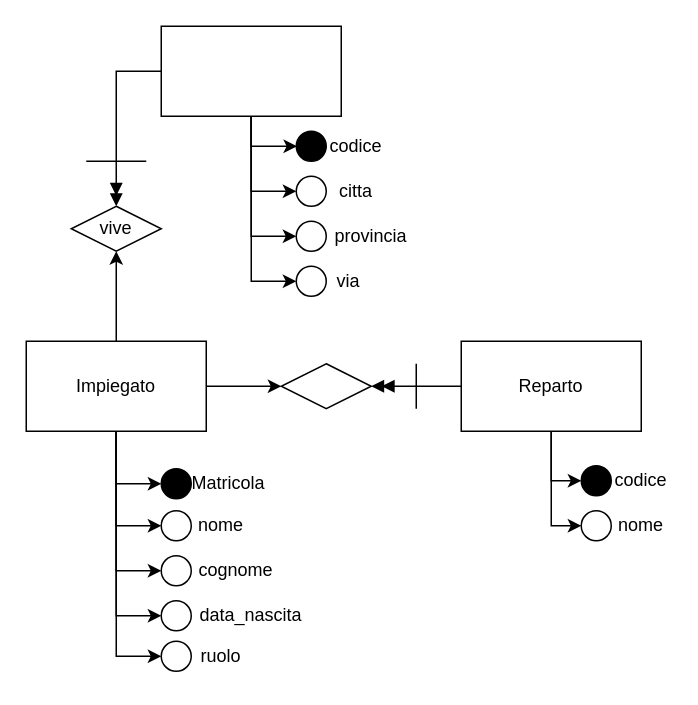
This 698x705 diagram has some shape labels left out. The shapes that lost their labels are listed below. From the top down, each one's centre as x and y in pixels, then its label:
At [250,70]: "Residenza".
At [325,385]: "lavora".
